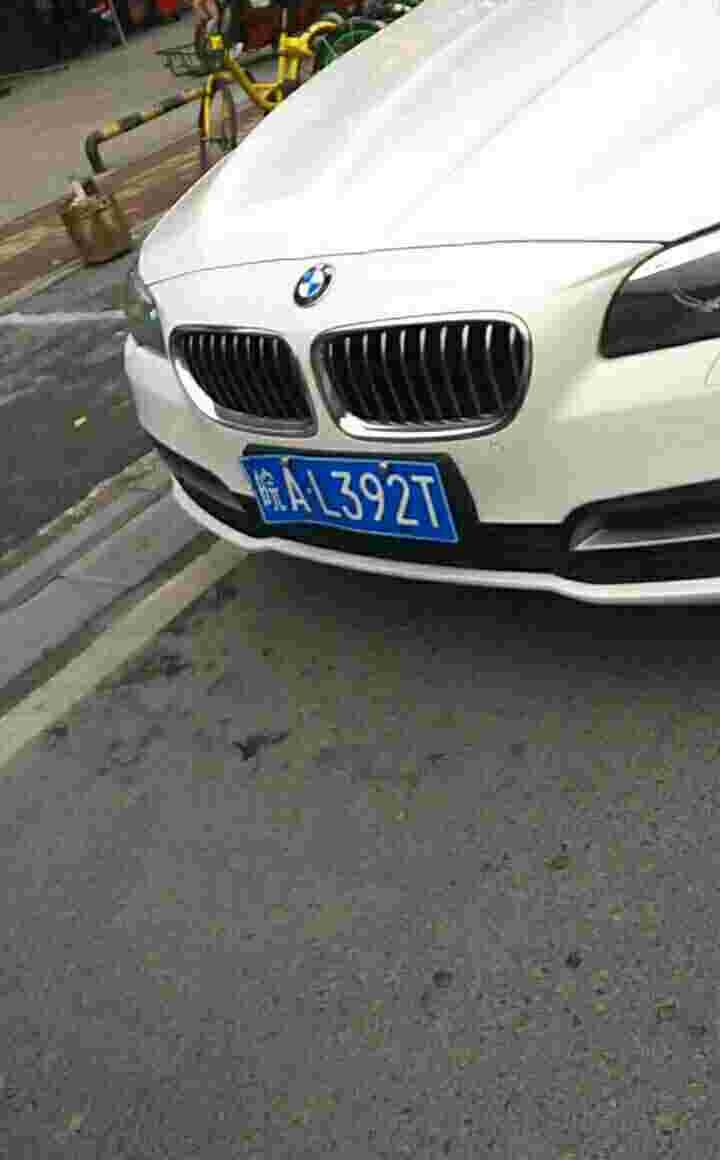plate: (239, 445, 464, 544)
